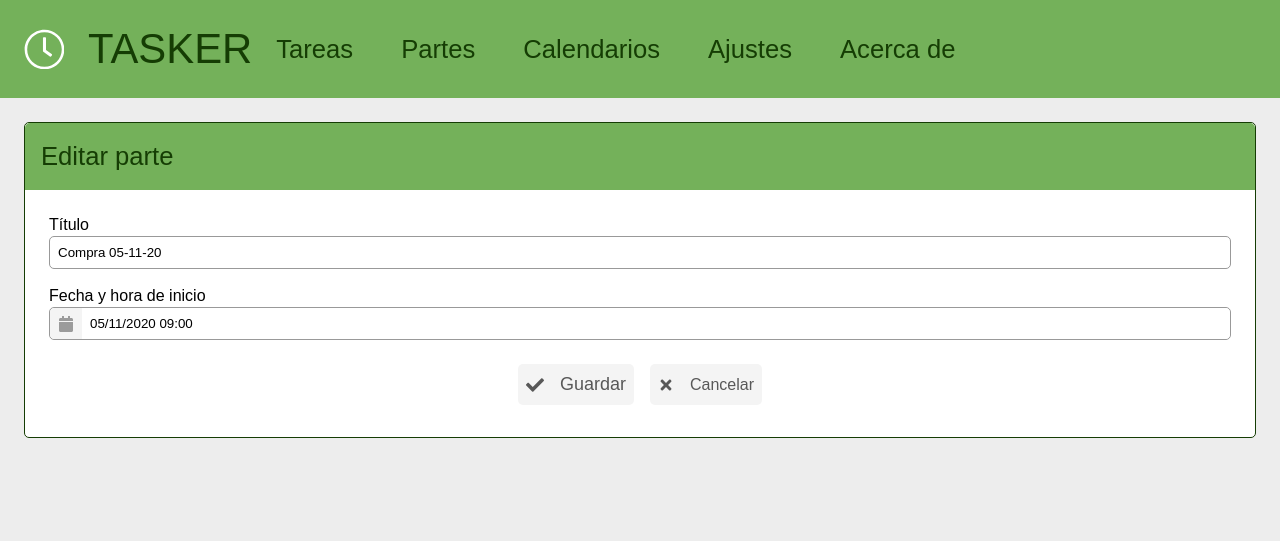
Editar parte de trabajo › Muestra mensaje de éxito al pulsar el botón 'Guardar' y actualizar los datos del parte
This screenshot has width=1280, height=541.
Expected: the field showing "Compra 05-11-20" is shown, [49, 236, 1231, 269]
Expected: the text "Editar parte" is shown, [25, 123, 1255, 190]
Click the button labelled "Guardar" at [576, 384], box [518, 364, 634, 405]
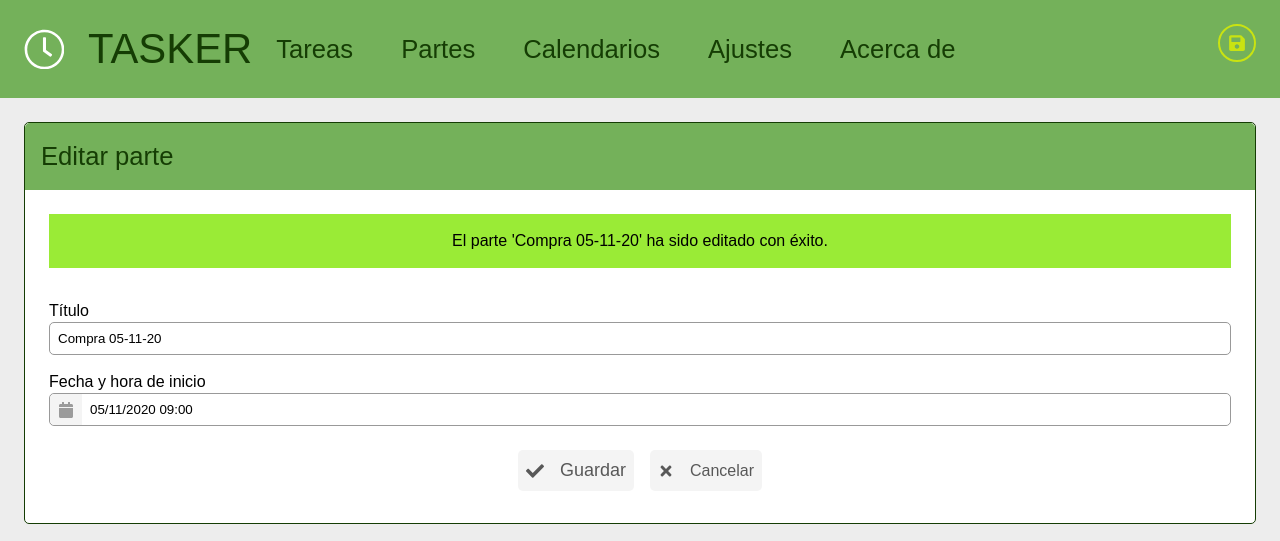
Expected: the element named "success-message" shows "El parte 'Compra 05-11-20' ha sido editado con éxito", [49, 214, 1231, 268]
